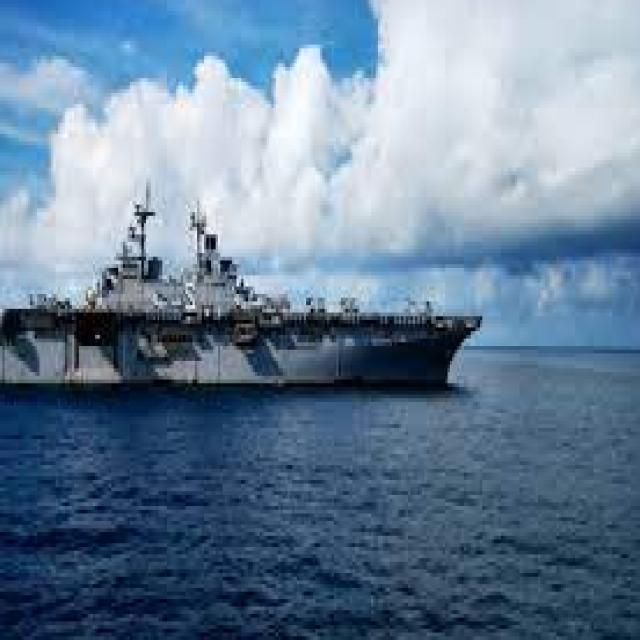navalvessels: (0, 186, 501, 391)
